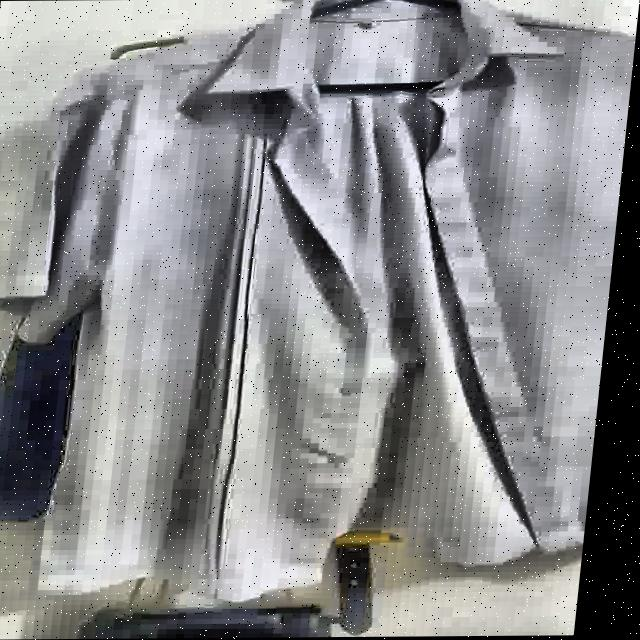clothes: (0, 0, 640, 592)
